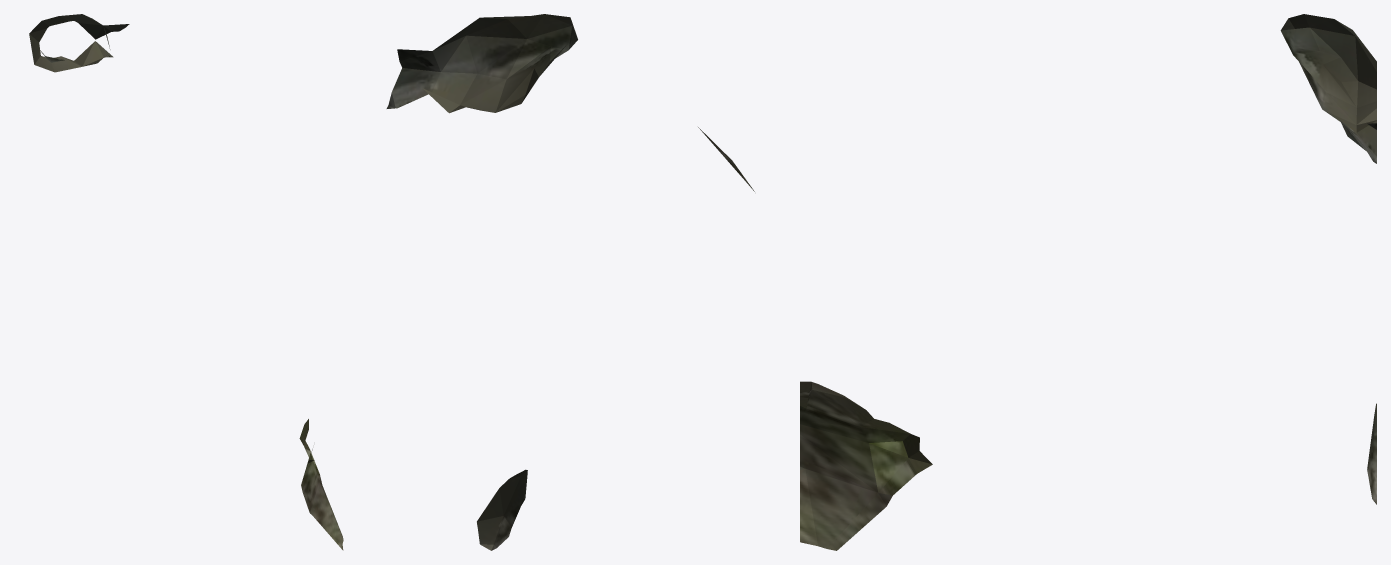
3 renders of one model, left to right at view 1: azimuth 30°, elevation 25°; view 2: azimuth 150°, elevation 25°; view 3: azimuth 270°, elevation 25°, orthographic. The views are drawn at different scales.
Bounding box in the file's own units: 0.8108 × 2.7 × 2.95.
Materials: 1 (1 with a texture image).
